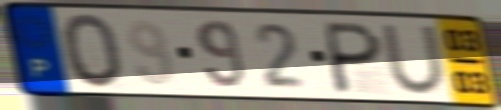2: (254, 21, 309, 91)
9: (193, 17, 247, 92), (126, 17, 177, 89)
O: (59, 11, 127, 91)
P: (325, 19, 386, 97)
U: (377, 23, 451, 97)
